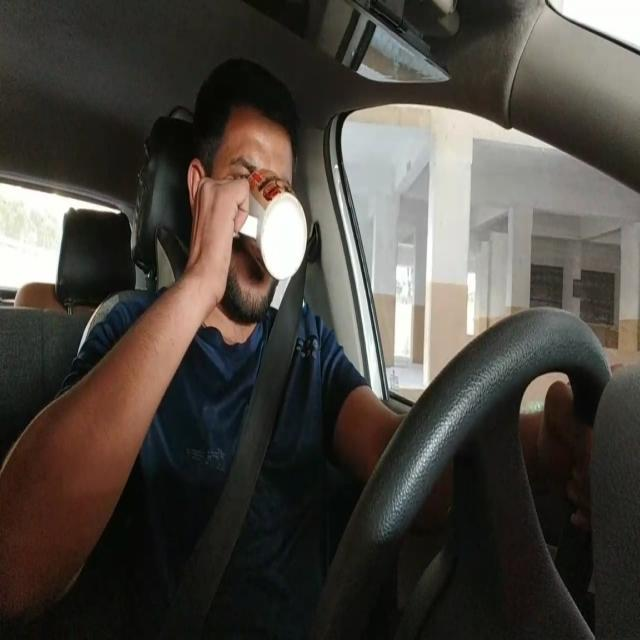Drinking: (188, 107, 305, 319)
